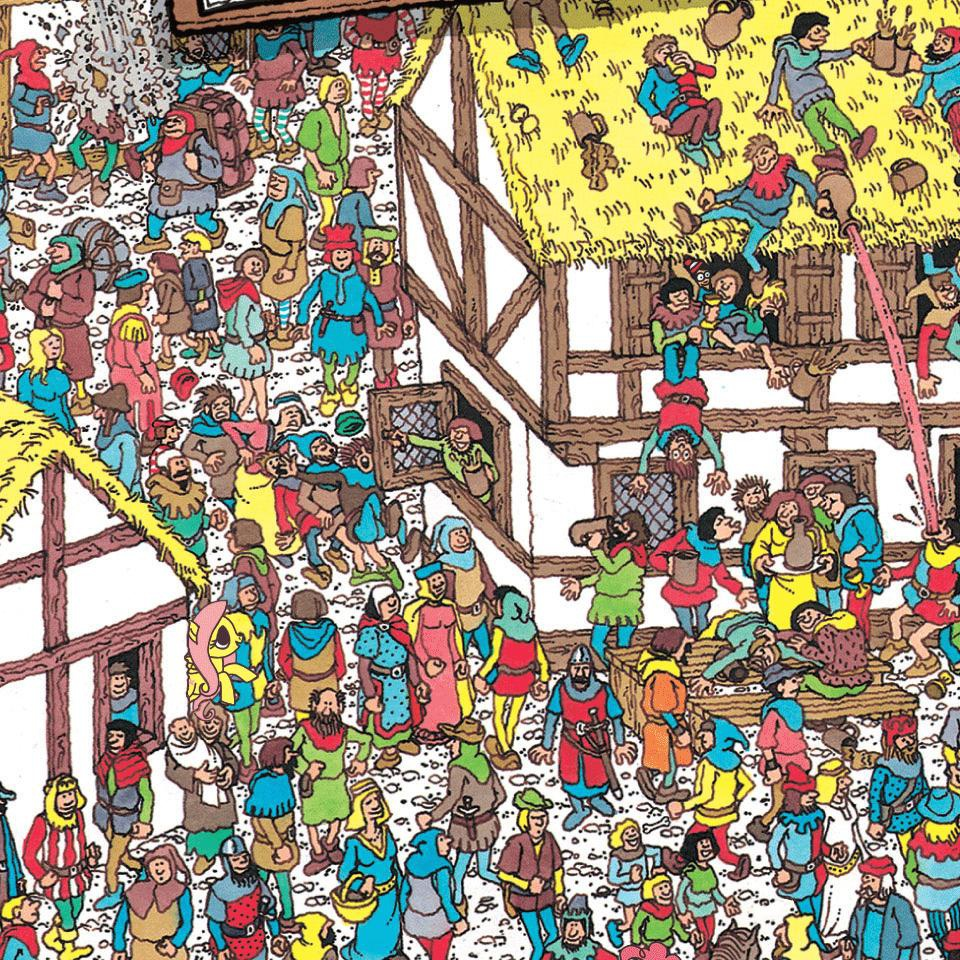waldo: (684, 258, 714, 288)
